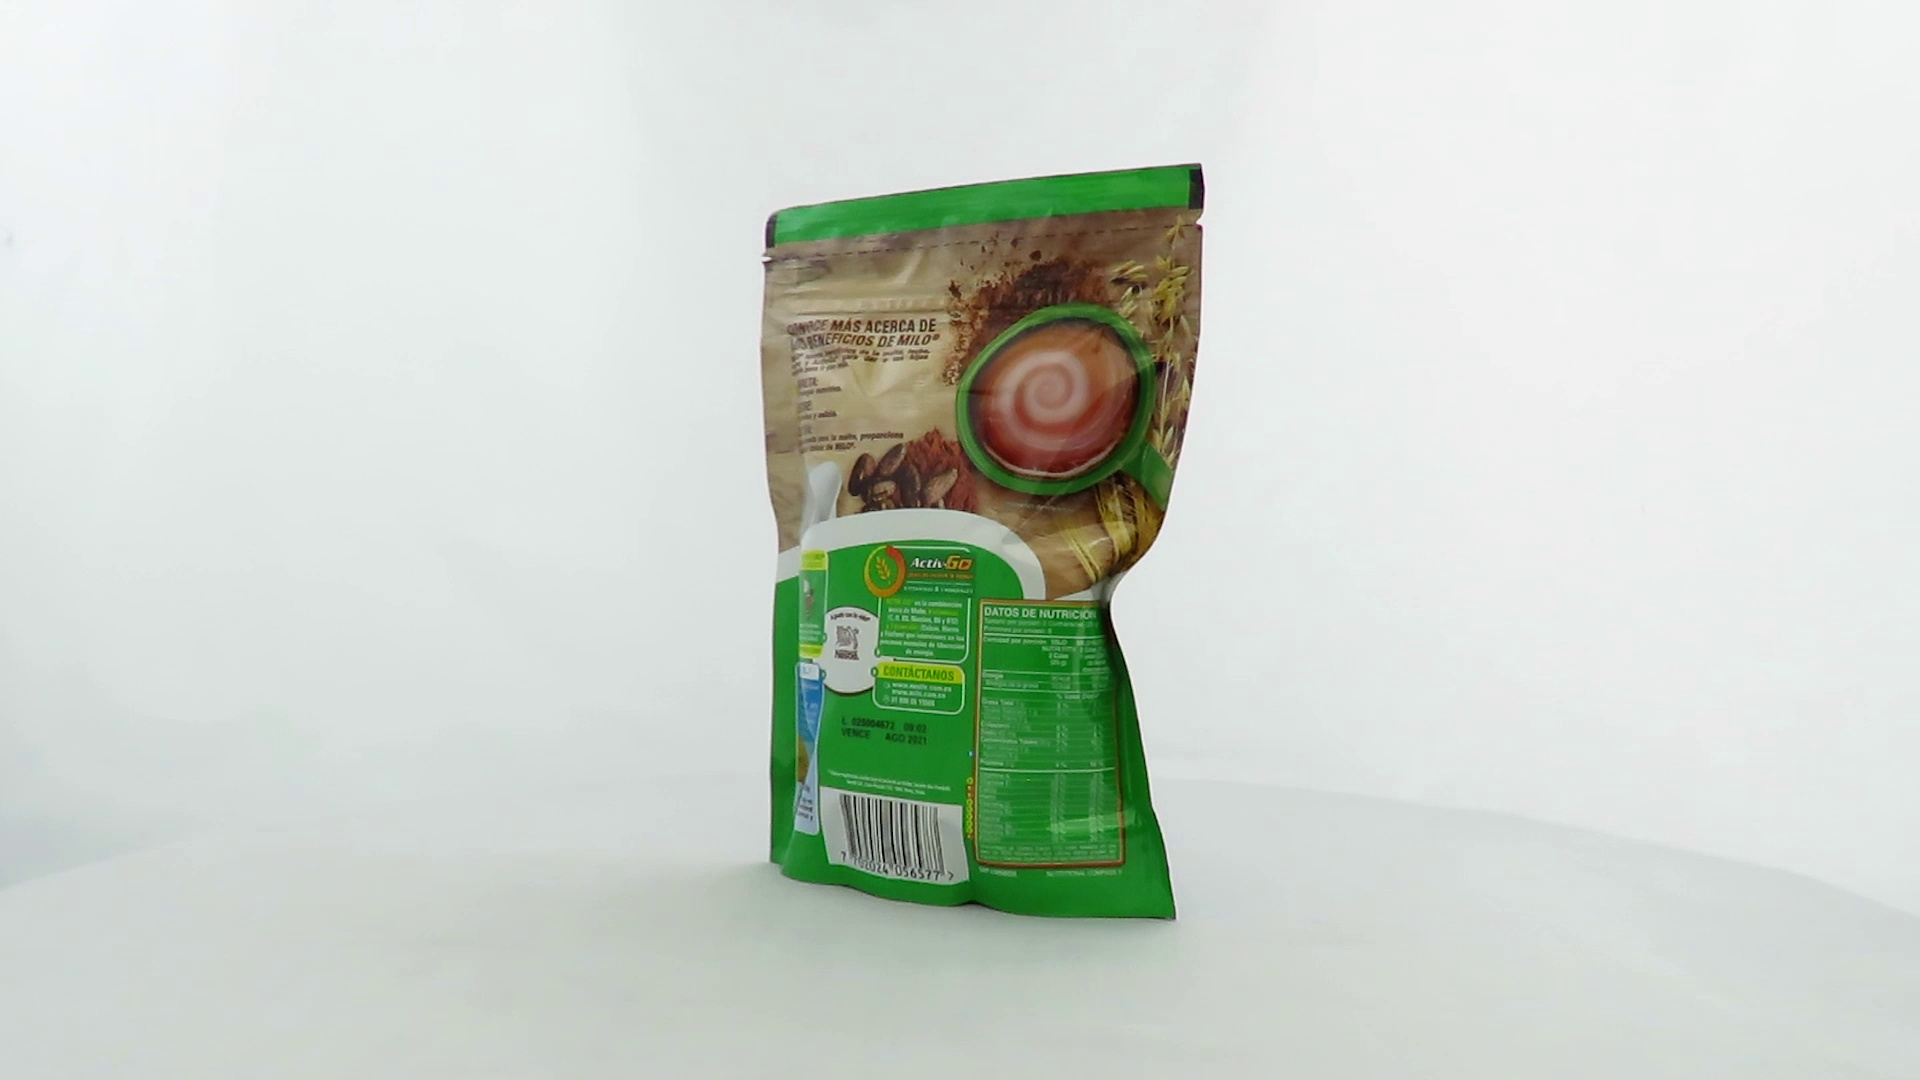COL0170205DYP20000: (756, 158, 1211, 928)
